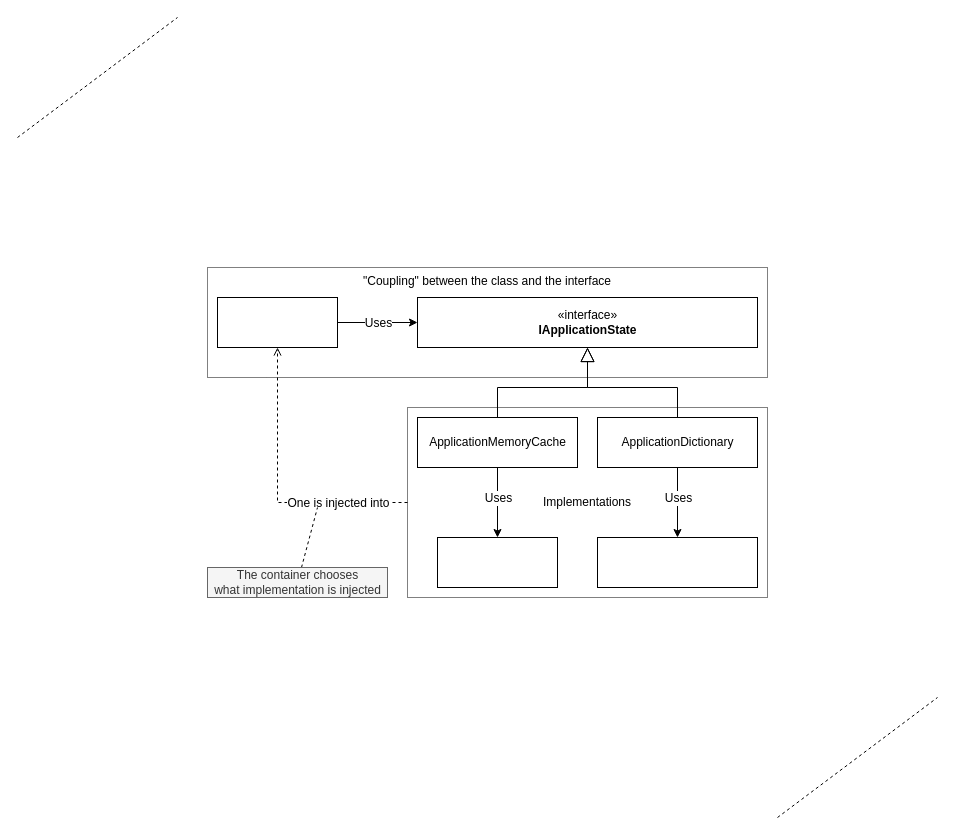
Image size: 956x836. Some labels were removed from this diagram. The shapes that lost their labels are listed below. From the top down, each one's centre as x and y in pixels, then its label:
At point (277, 322): "SomeConsumer".
At point (497, 562): "«interface» IMemoryCache".
At point (677, 562): "ConcurrentDictionary <string, object>".
